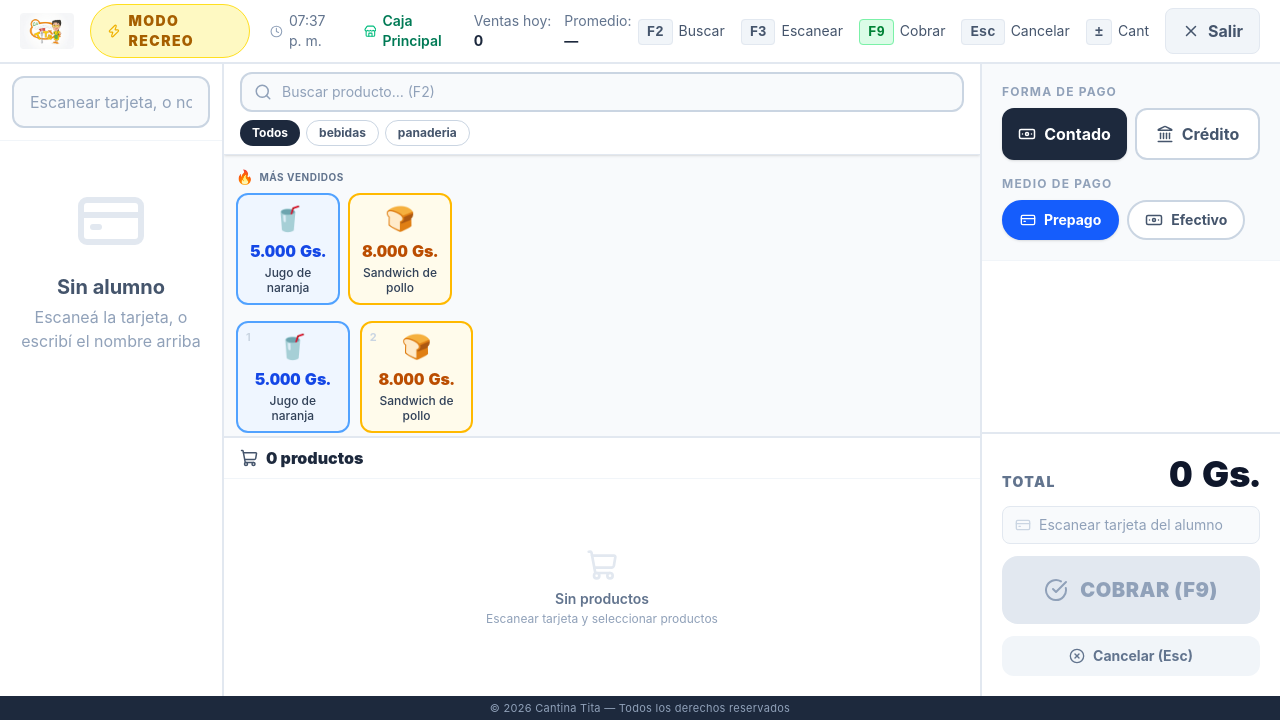
ModoRecreo — búsqueda de tarjeta › muestra nombre del alumno al encontrar tarjeta activa
Check: the text "Jugo de naranja" below "Más vendidos" is shown, box [265,265,311,295]
Type "T-00001" into the field with placeholder "Escanear tarjeta, o nombre del alumno…" at (111, 102), box [12,76,210,128]
Then press Enter
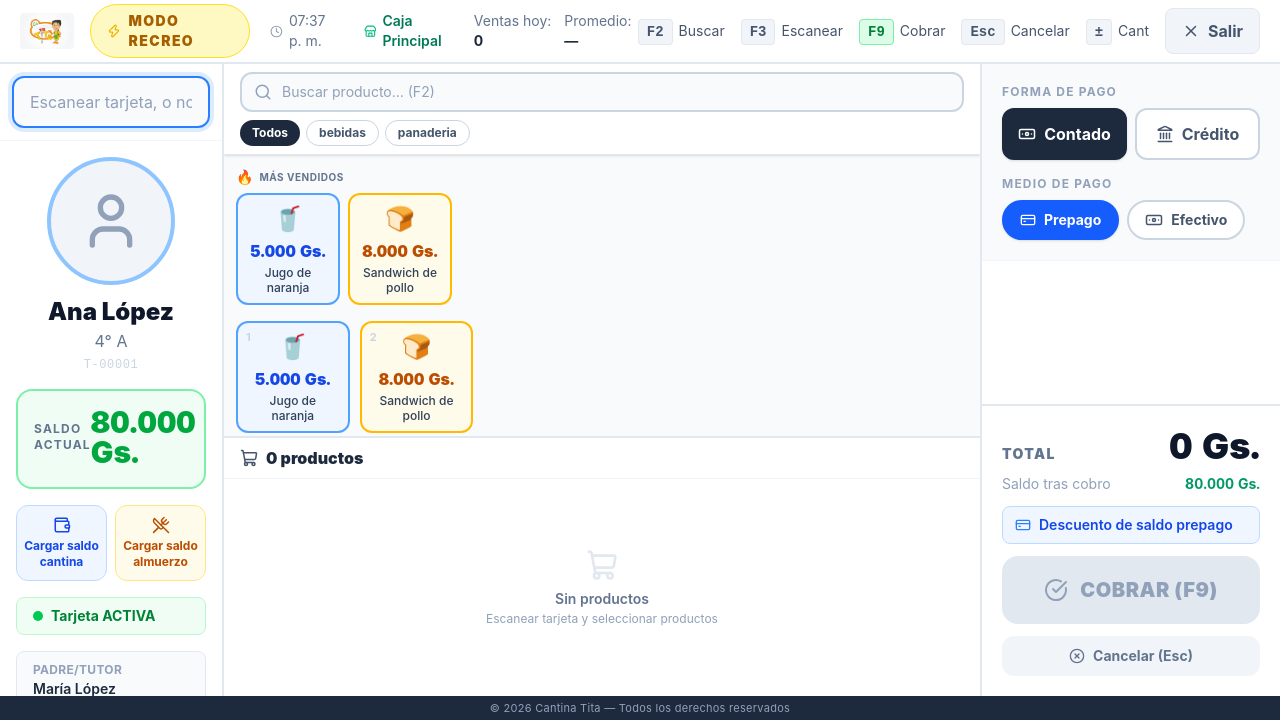
Check: the text "Ana López" is shown, box [48,297,174,326]
